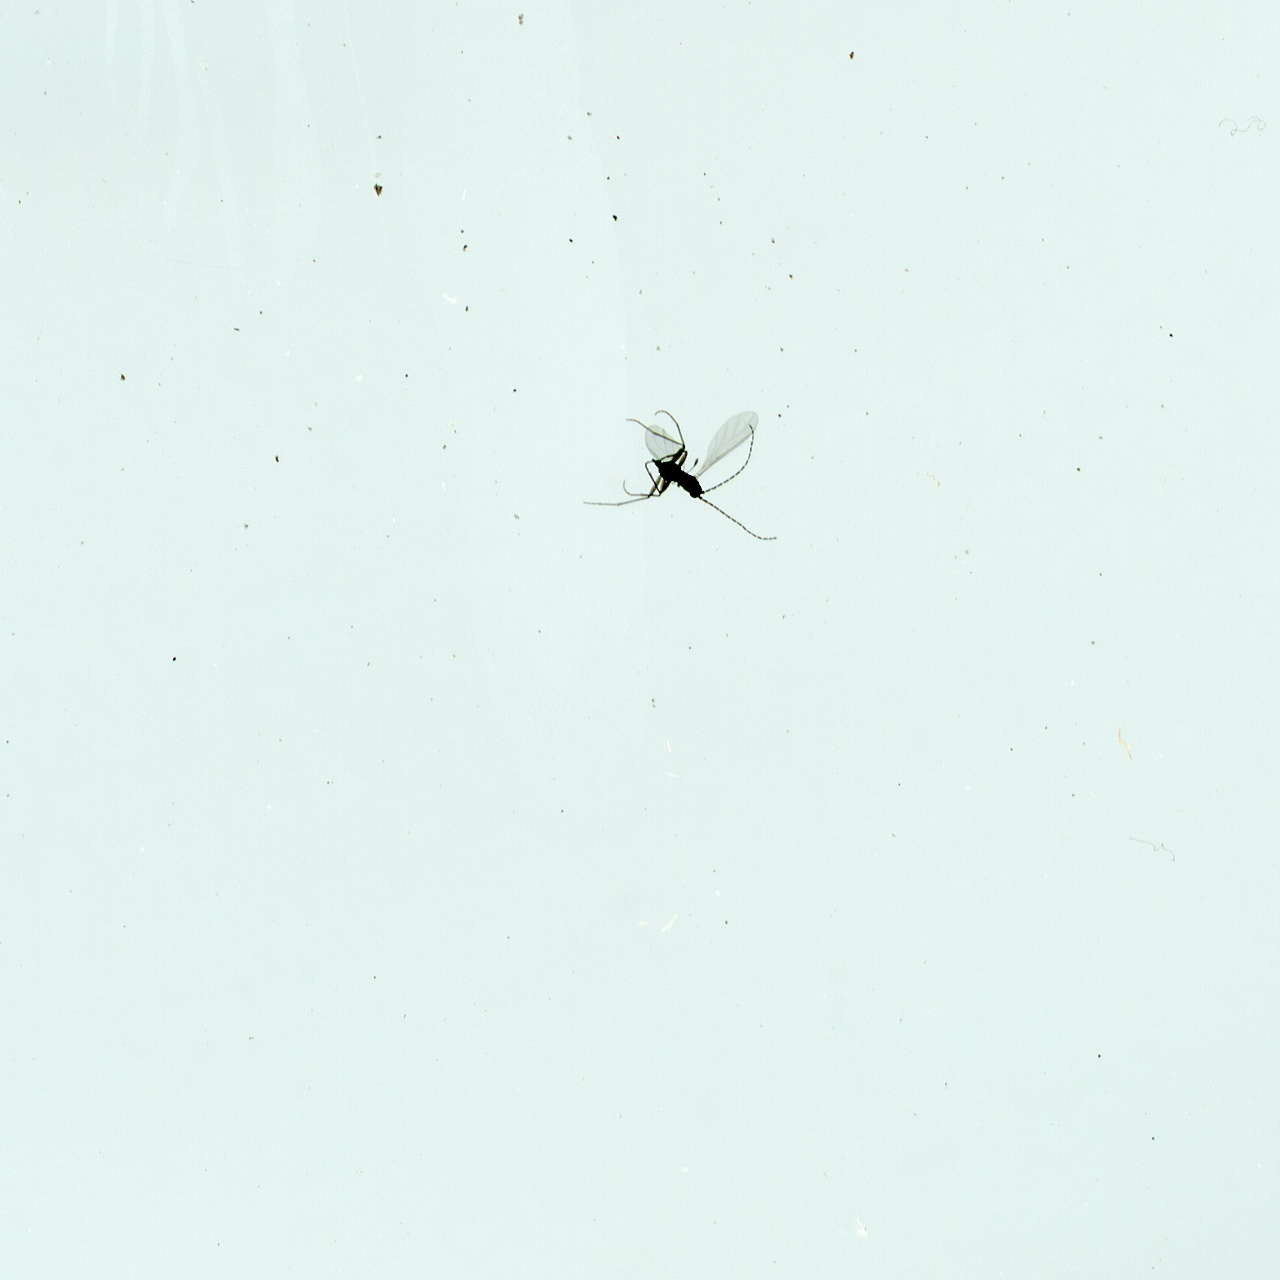arthropod: (591, 403, 788, 545)
